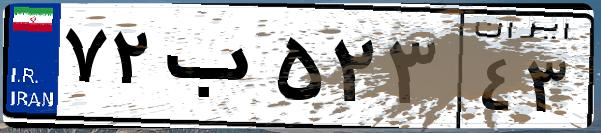2: (330, 28, 385, 110), (110, 28, 158, 98)
3: (385, 28, 445, 110), (525, 38, 570, 115)
4: (475, 38, 525, 113)
5: (270, 28, 330, 110)
7: (57, 26, 110, 100)
ب: (158, 20, 270, 120)
